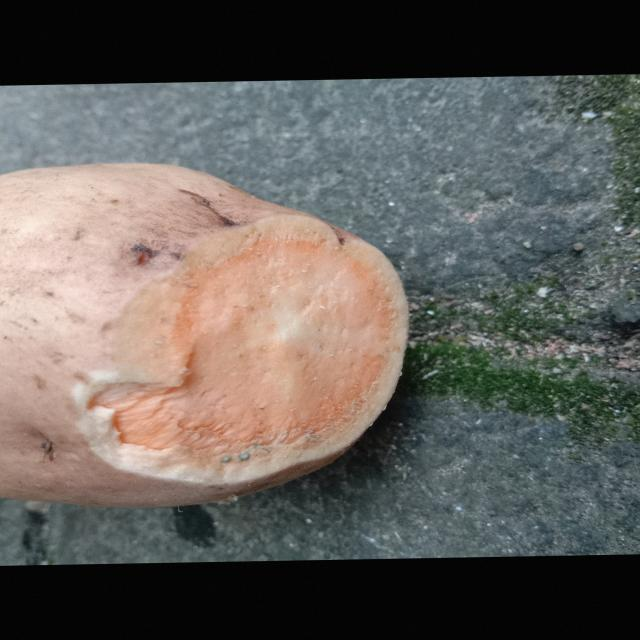Healthy Sweet Potato: (77, 215, 408, 495)
